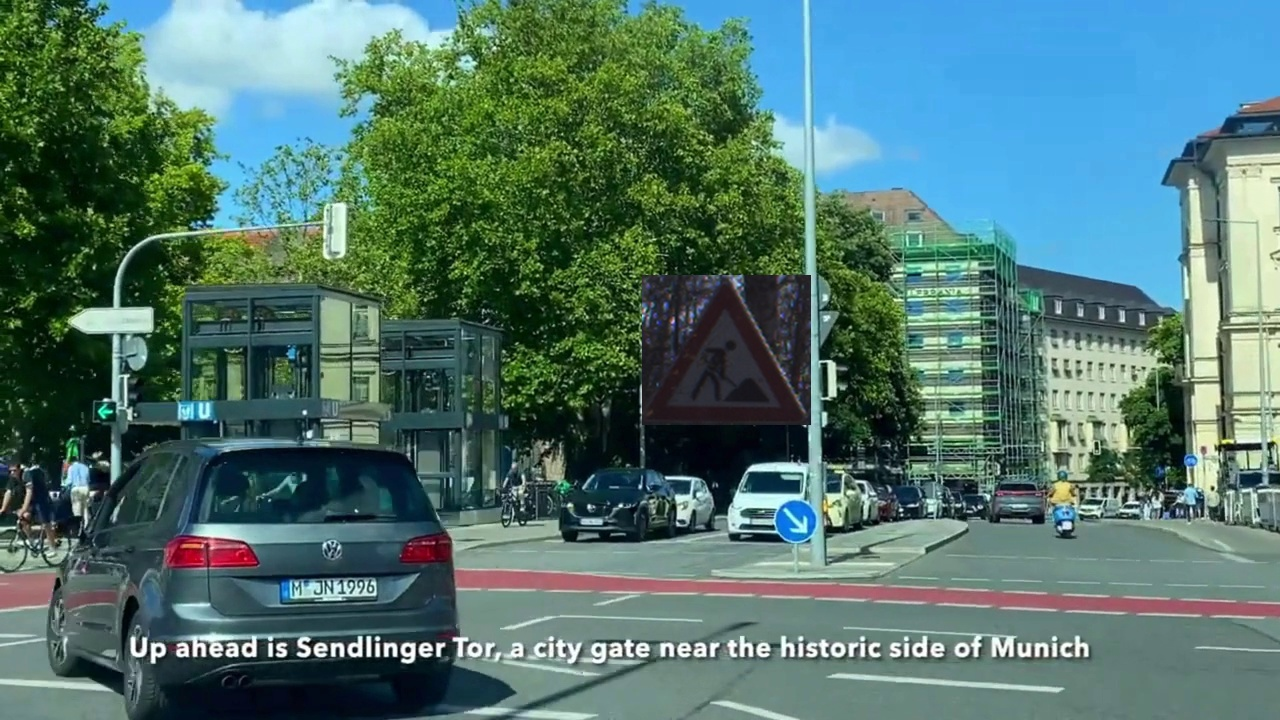Road work: (642, 275, 811, 425)
